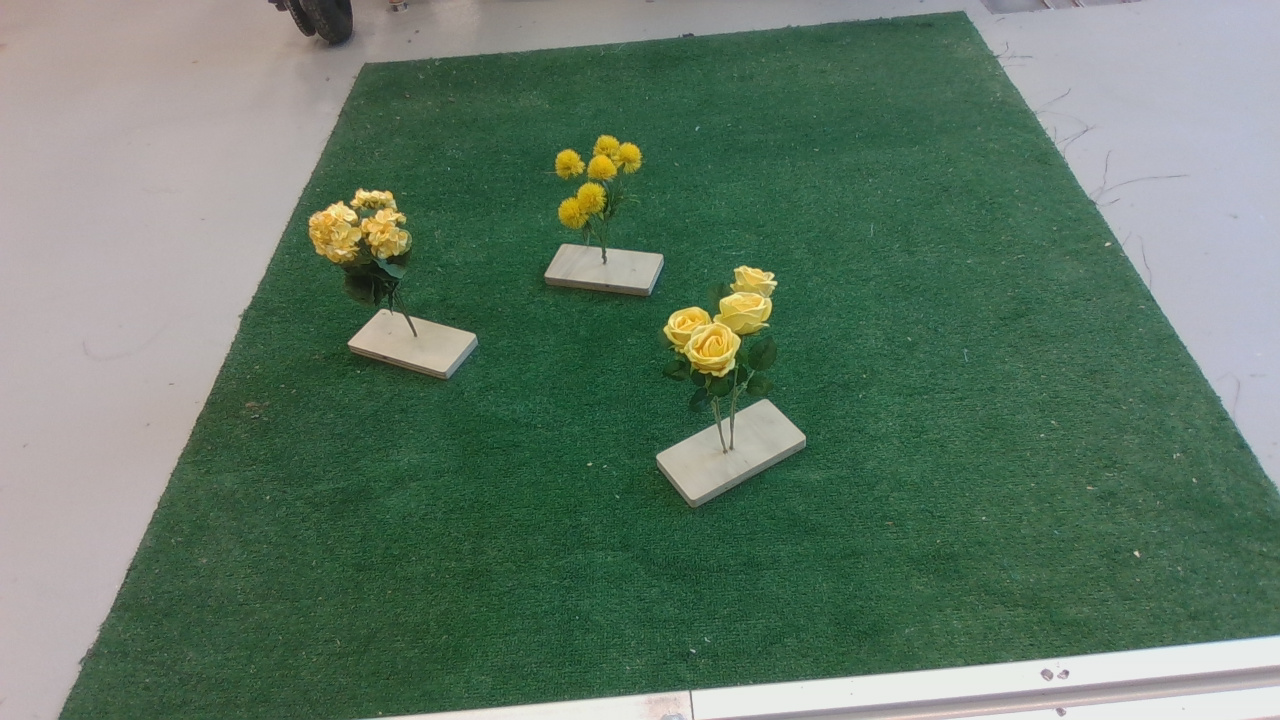dandelion: (545, 136, 658, 241)
geranium: (303, 187, 430, 313)
rose: (666, 264, 796, 417)
